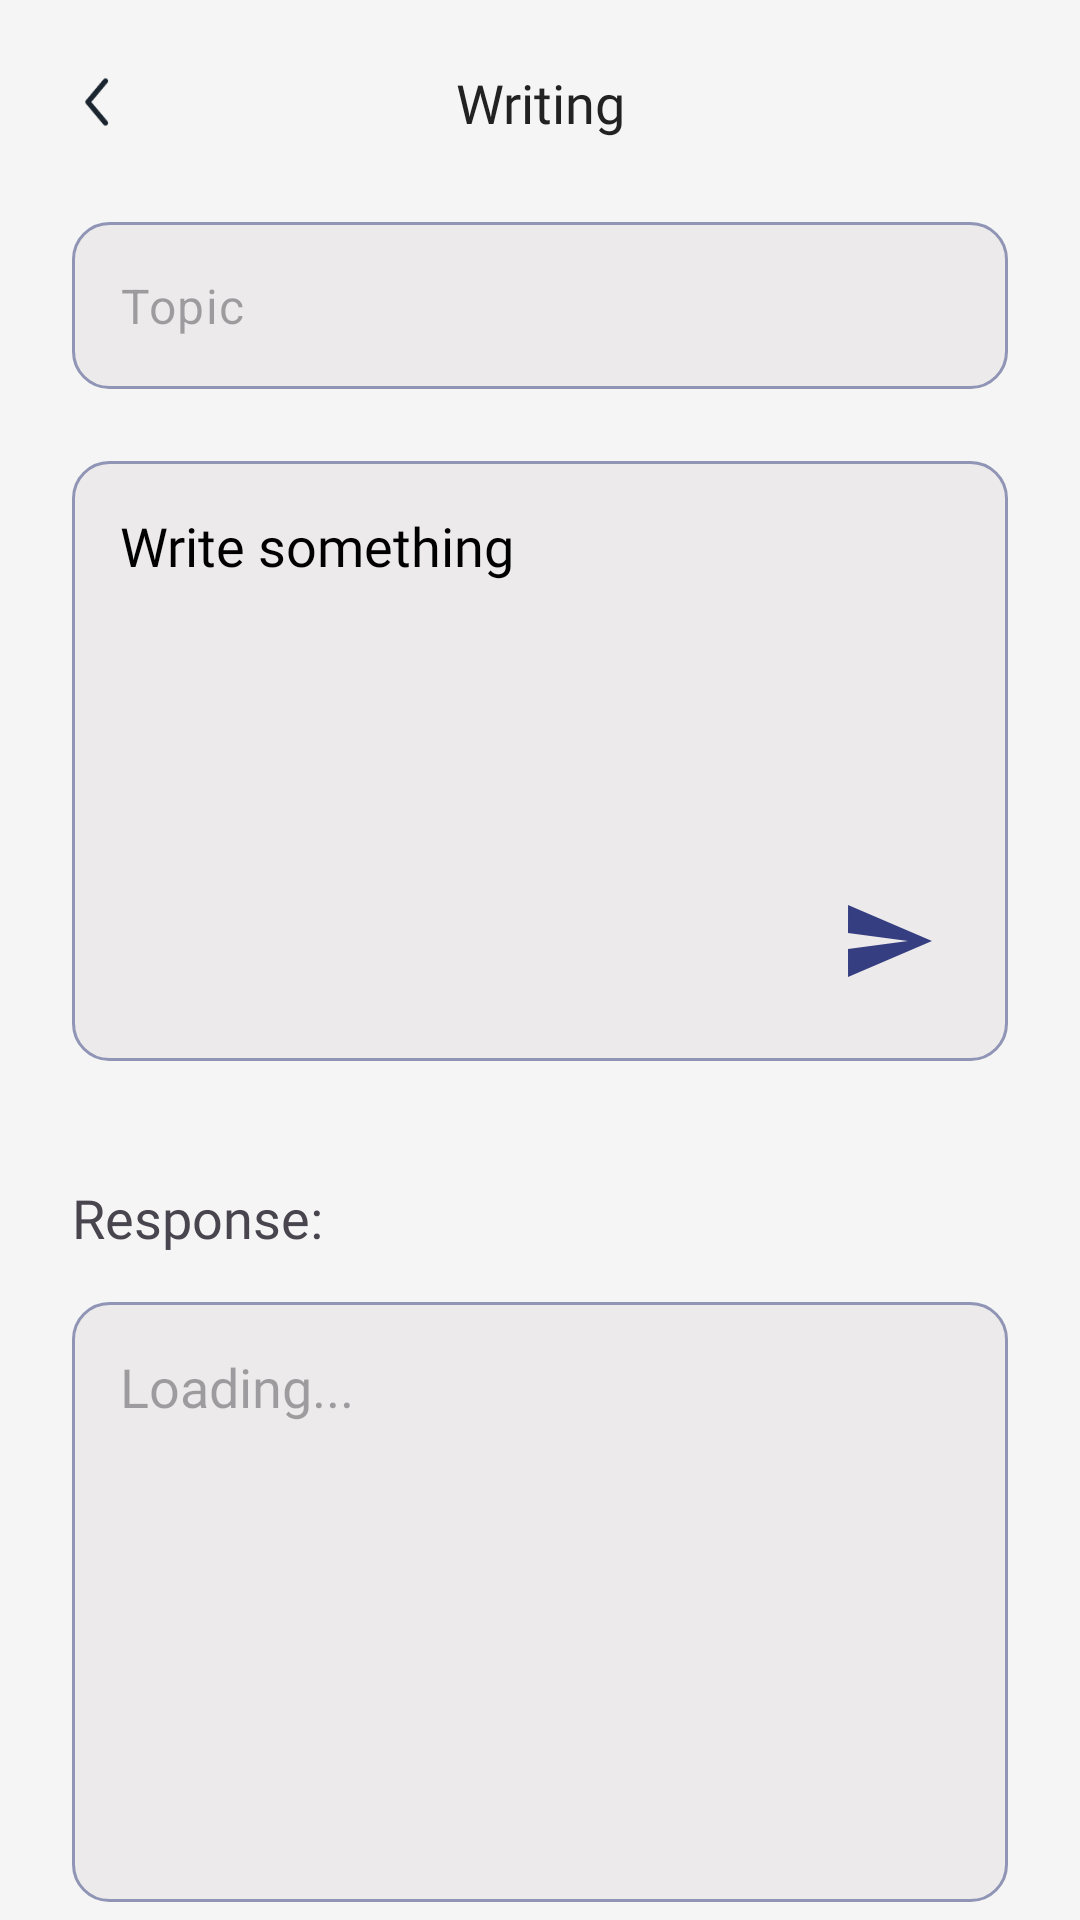

Icons on this 1080px x 1920px Android screen, each with its box as (x1, y1, x2, y2):
back: (85, 78, 108, 126)
send: (848, 905, 932, 977)
